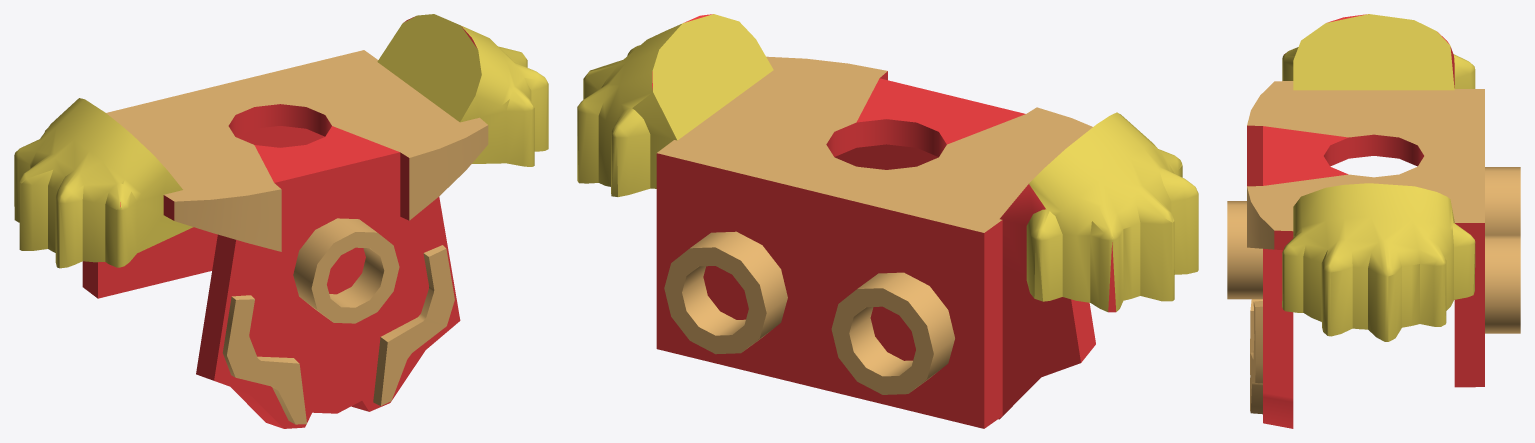
File: Ropa2.fbx
The picture shows the model from 3 angles, left to right: view 1: azimuth 30°, elevation 25°; view 2: azimuth 150°, elevation 25°; view 3: azimuth 270°, elevation 25°; orthographic projection. The views are drawn at different scales.
Visible parts, largest first — view 1: SOLID-WHITE_113-material.002, SOLID-WHITE_113-material.435, SOLID-WHITE_113-material.001; view 2: SOLID-WHITE_113-material.435, SOLID-WHITE_113-material.002, SOLID-WHITE_113-material.001; view 3: SOLID-WHITE_113-material.001, SOLID-WHITE_113-material.002, SOLID-WHITE_113-material.435.
Part boxes in pixels (<box>): SOLID-WHITE_113-material.002: <box>106,50,488,424</box>; SOLID-WHITE_113-material.435: <box>82,16,477,428</box>; SOLID-WHITE_113-material.001: <box>14,14,548,268</box>; SOLID-WHITE_113-material.435: <box>652,14,1116,428</box>; SOLID-WHITE_113-material.002: <box>657,56,1092,394</box>; SOLID-WHITE_113-material.001: <box>577,14,1198,311</box>; SOLID-WHITE_113-material.001: <box>1282,14,1475,341</box>; SOLID-WHITE_113-material.002: <box>1227,81,1520,414</box>; SOLID-WHITE_113-material.435: <box>1247,14,1484,428</box>.
Size of the model in its own units: 373 by 223 by 192.
